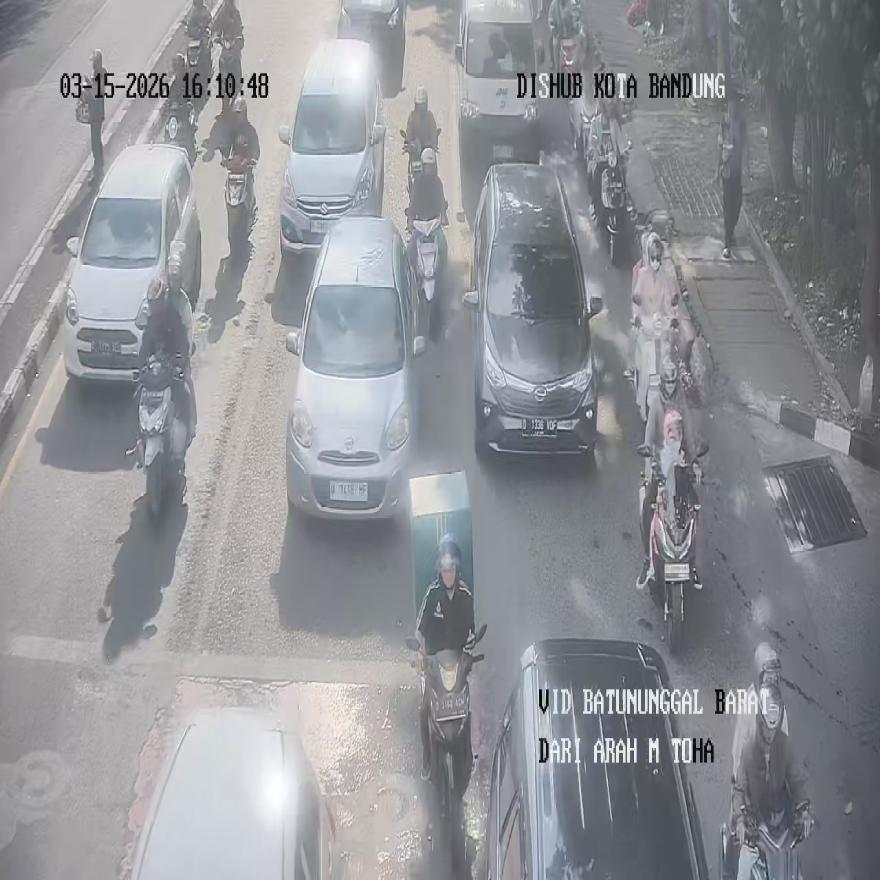Motor: (487, 638, 710, 879), (284, 216, 426, 520), (464, 162, 602, 454), (129, 708, 341, 877), (63, 143, 200, 381), (278, 39, 386, 260), (454, 0, 548, 159)
Truk: (405, 625, 486, 870), (639, 445, 699, 654), (126, 354, 192, 520), (720, 810, 806, 880), (407, 213, 447, 342), (402, 86, 440, 207), (716, 112, 744, 258), (224, 152, 258, 265), (600, 153, 631, 266), (162, 69, 198, 158), (186, 33, 212, 125), (218, 33, 242, 120)
